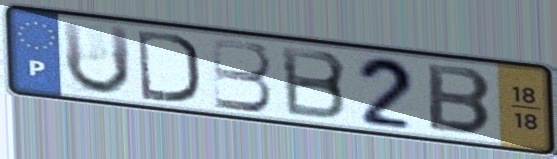2: (354, 53, 423, 136)
B: (278, 43, 351, 122), (424, 60, 497, 138), (208, 35, 276, 115)
D: (134, 26, 204, 106)
U: (58, 18, 134, 98)
